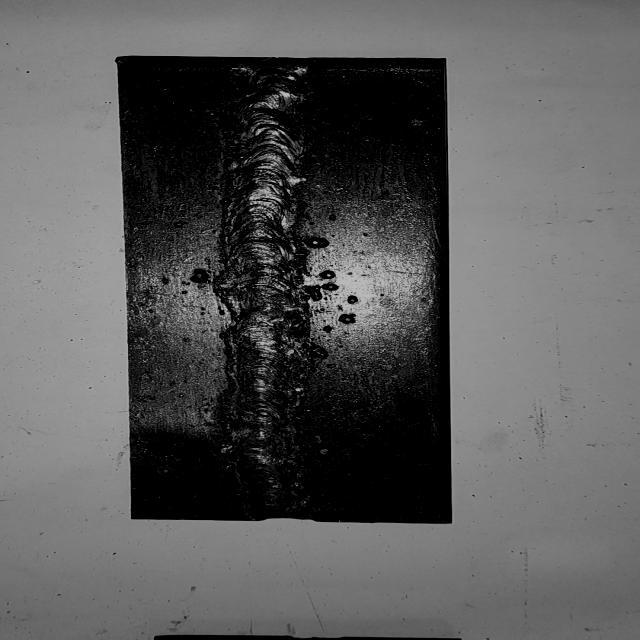Welding Line: (224, 63, 319, 514)
Workpiece: (120, 53, 456, 526)
